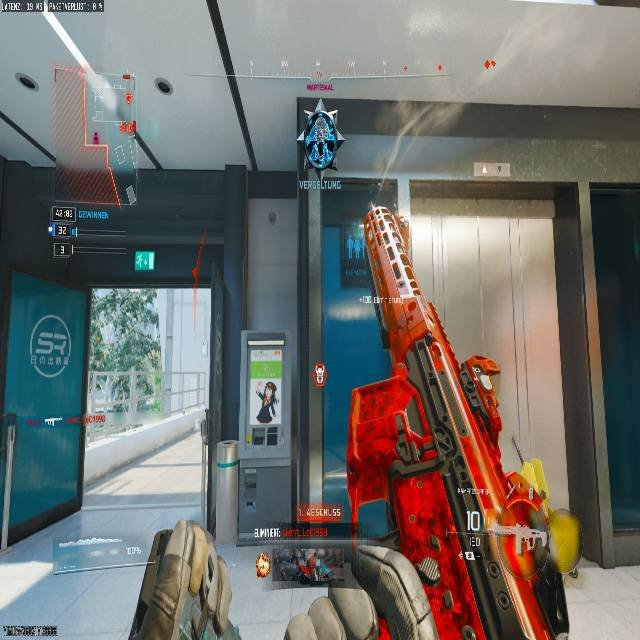player: (302, 104, 343, 170)
